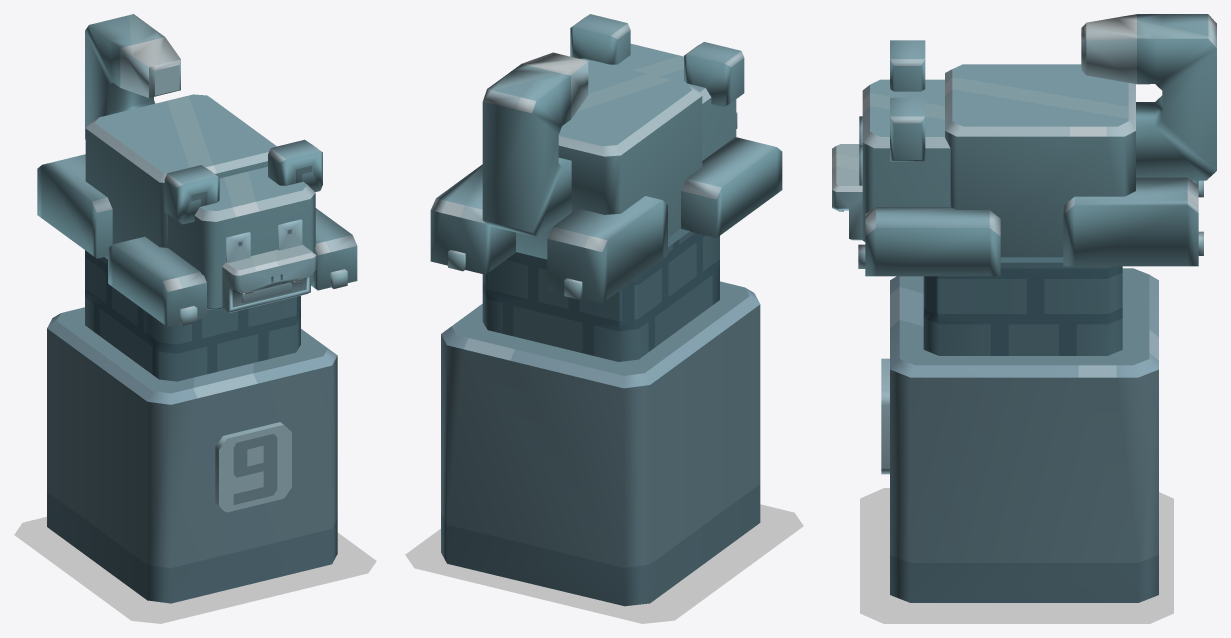
The model's file is G_makeover_S_PVP9_3.fbx.
3 renders of one model, left to right at view 1: azimuth 30°, elevation 25°; view 2: azimuth 150°, elevation 25°; view 3: azimuth 270°, elevation 25°, orthographic. The views are drawn at different scales.
Visible parts, largest first — view 1: yadon, ground; view 2: yadon, ground; view 3: yadon, ground.
Part boxes in pixels (x1,y1,x2,y2): yadon: (37, 14, 357, 603); ground: (14, 516, 376, 623); yadon: (430, 14, 782, 606); ground: (405, 504, 803, 623); yadon: (832, 14, 1216, 602); ground: (860, 488, 1173, 623).
Size of the model in its own units: 3.58 by 6.51 by 4.29.
